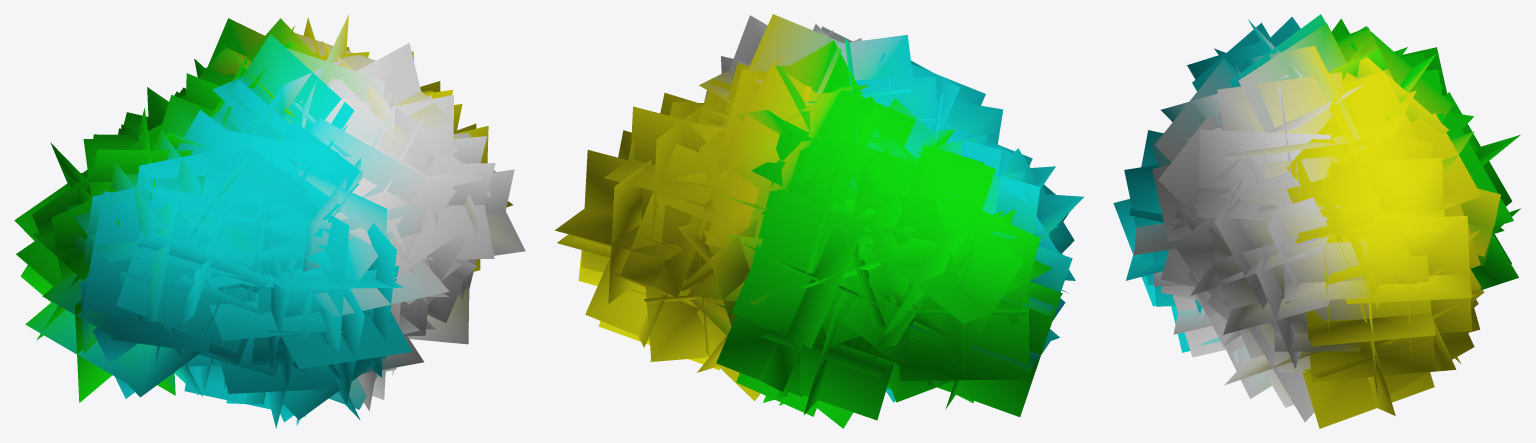
Rendered from Bush02.fbx.
3 renders of one model, left to right at view 1: azimuth 30°, elevation 25°; view 2: azimuth 150°, elevation 25°; view 3: azimuth 270°, elevation 25°, orthographic. The views are drawn at different scales.
Parts seen in each view (by area): view 1: geo1; view 2: geo1; view 3: geo1.
Part boxes in pixels (x1,y1,x2,y2): geo1: (14, 14, 525, 428); geo1: (554, 14, 1083, 428); geo1: (1113, 14, 1520, 428).
Bounding box in the file's own units: 362 × 284 × 288.
